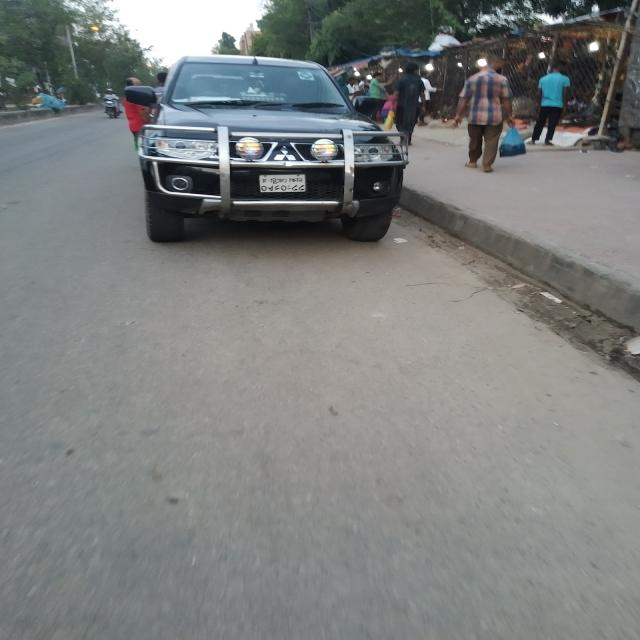numberplate: (258, 172, 309, 194)
